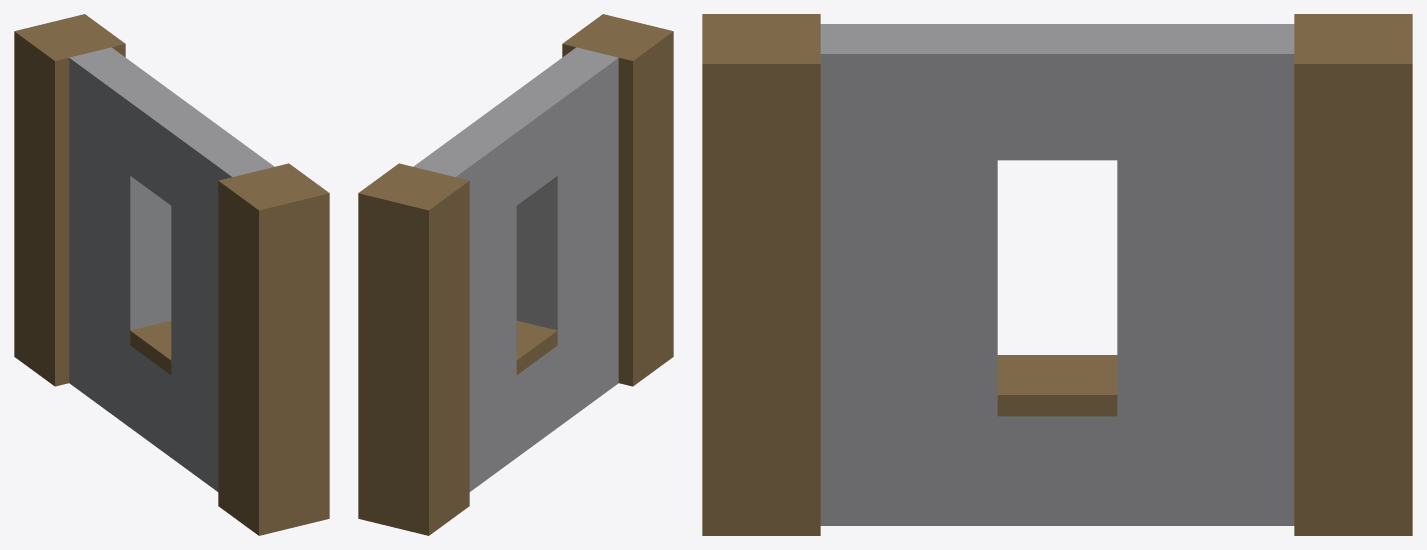
File: Wood_Window_Square_Sill_01.obj
The picture shows the model from 3 angles, left to right: view 1: azimuth 30°, elevation 25°; view 2: azimuth 150°, elevation 25°; view 3: azimuth 270°, elevation 25°; orthographic projection. The views are drawn at different scales.
Visible parts, largest first — view 1: Mesh1_Wood_Window_Square_Sill_Model; view 2: Mesh1_Wood_Window_Square_Sill_Model; view 3: Mesh1_Wood_Window_Square_Sill_Model.
Part boxes in pixels (x1=…): Mesh1_Wood_Window_Square_Sill_Model: x1=14, y1=14, x2=329, y2=535; Mesh1_Wood_Window_Square_Sill_Model: x1=358, y1=14, x2=673, y2=535; Mesh1_Wood_Window_Square_Sill_Model: x1=702, y1=14, x2=1412, y2=535.
Size of the model in its own units: 0.5 by 2.2 by 3.
